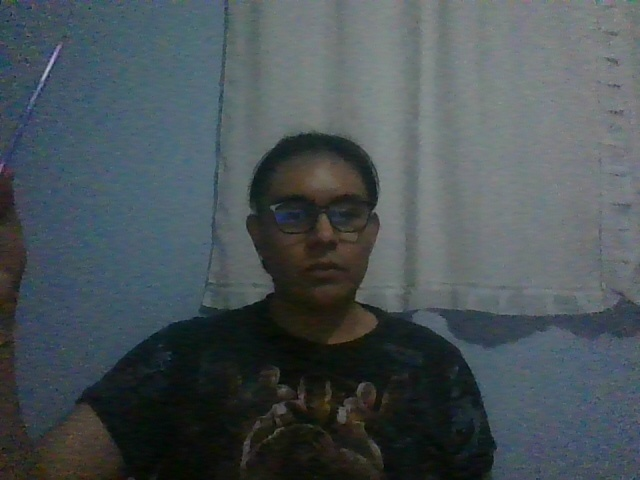lapiz: (1, 34, 67, 173)
